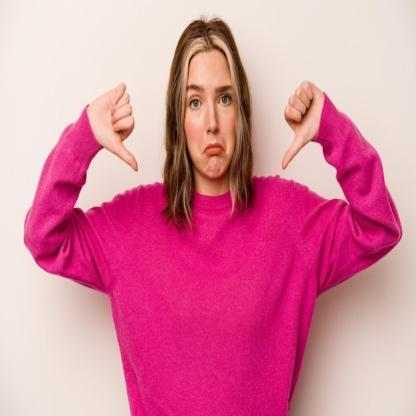thumb_down: (85, 80, 145, 178), (278, 68, 327, 178)
